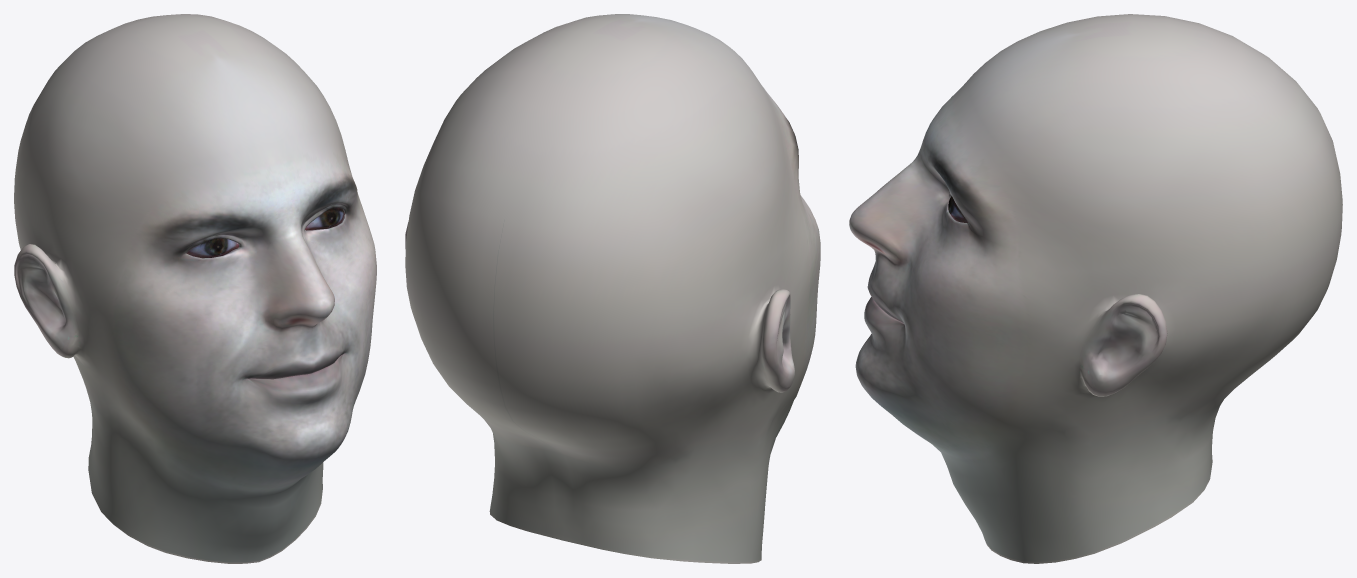
The picture shows the model from 3 angles, left to right: view 1: azimuth 30°, elevation 25°; view 2: azimuth 150°, elevation 25°; view 3: azimuth 270°, elevation 25°; orthographic projection. The views are drawn at different scales.
Parts seen in each view (by area): view 1: skin_hi, eyeR_hi, eyeL_hi; view 2: skin_hi; view 3: skin_hi.
Boxes of the visible parts, bbox=[...] form: skin_hi: bbox=[14, 14, 376, 563]; eyeR_hi: bbox=[186, 238, 238, 258]; eyeL_hi: bbox=[305, 207, 344, 230]; skin_hi: bbox=[405, 14, 820, 563]; skin_hi: bbox=[849, 14, 1342, 563].
Size of the model in its own units: 195 by 277 by 242.
